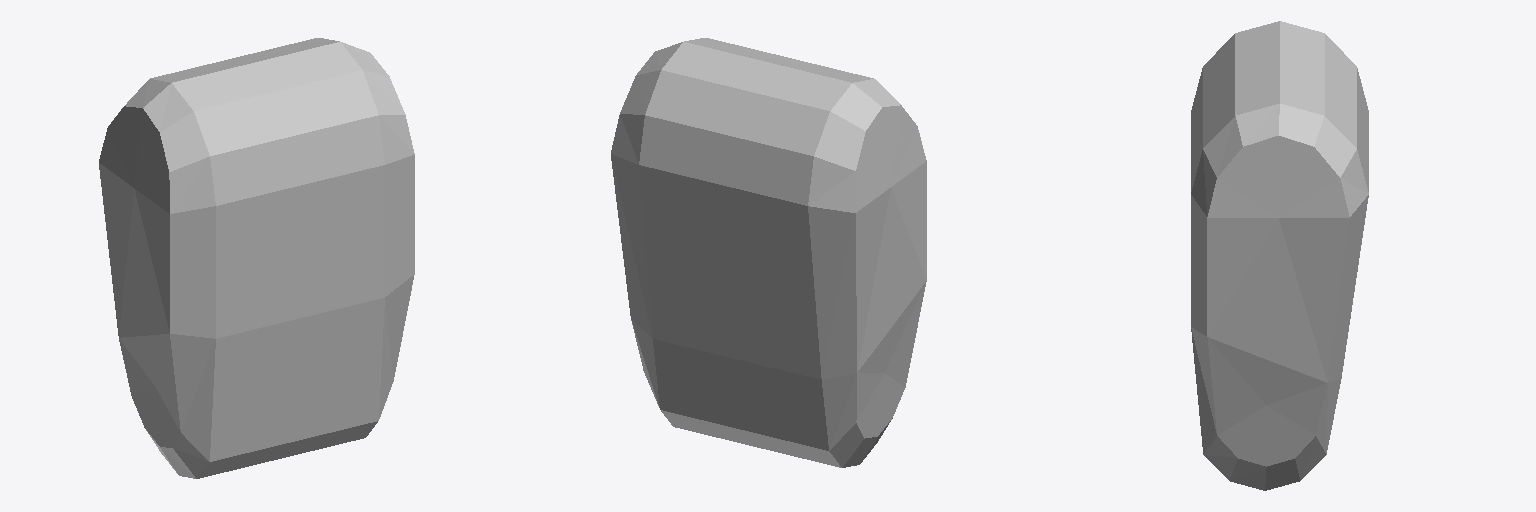
The model's file is finger2.obj.
The picture shows the model from 3 angles: view 1: azimuth 30°, elevation 25°; view 2: azimuth 150°, elevation 25°; view 3: azimuth 270°, elevation 25°; orthographic projection.
Visible parts, largest first — view 1: unnamed_object1; view 2: unnamed_object1; view 3: unnamed_object1.
Part boxes in pixels (x1,y1,x2,y2): unnamed_object1: (99, 38, 414, 478); unnamed_object1: (611, 38, 926, 467); unnamed_object1: (1191, 21, 1368, 490).
Bounding box in the file's own units: 1.65 × 2.5 × 1.04.